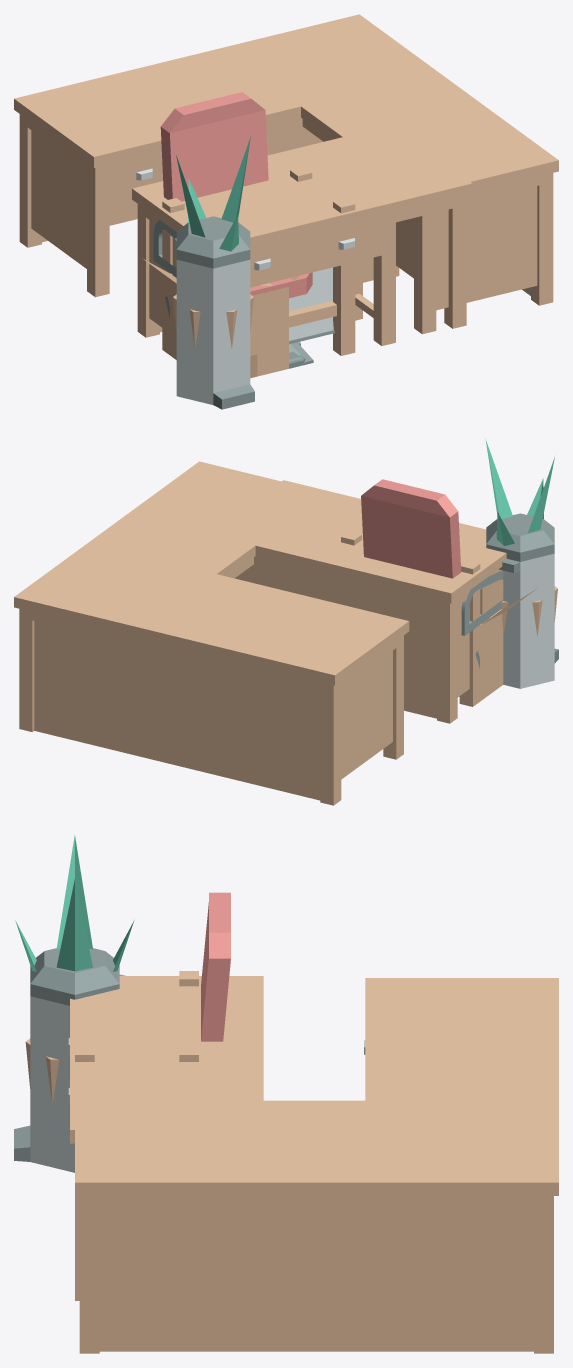
The model's file is office.glb.
The picture shows the model from 3 angles, top to bottom: view 1: azimuth 30°, elevation 25°; view 2: azimuth 150°, elevation 25°; view 3: azimuth 270°, elevation 25°; orthographic projection. The views are drawn at different scales.
Parts seen in each view (by area): view 1: Mesh deskCorner, Mesh desk, trashcan(Clone), chair, Mesh sideTableDrawers, bookcaseOpenLow(Clone), cardboardBoxOpen(Clone), plant, drawer (×2), computerScreen(Clone), drawerRight, Mesh pottedPlant; view 2: Mesh deskCorner, Mesh desk, chair, trashcan(Clone), cardboardBoxOpen(Clone), plant, bookcaseOpenLow(Clone), Mesh sideTableDrawers; view 3: Mesh deskCorner, Mesh desk, trashcan(Clone), chair, plant, bookcaseOpenLow(Clone).
Part boxes in pixels (x1=…): Mesh deskCorner: x1=14, y1=14, x2=558, y2=334; Mesh desk: x1=132, y1=125, x2=472, y2=337; trashcan(Clone): x1=174, y1=216, x2=254, y2=409; chair: x1=153, y1=92, x2=312, y2=298; Mesh sideTableDrawers: x1=172, y1=201, x2=401, y2=345; bookcaseOpenLow(Clone): x1=162, y1=167, x2=355, y2=355; cardboardBoxOpen(Clone): x1=142, y1=258, x2=299, y2=378; plant: x1=176, y1=136, x2=250, y2=251; drawer (×2): x1=109, y1=160, x2=297, y2=276; computerScreen(Clone): x1=289, y1=267, x2=334, y2=361; drawerRight: x1=312, y1=226, x2=381, y2=261; Mesh pottedPlant: x1=173, y1=294, x2=253, y2=348; Mesh deskCorner: x1=14, y1=461, x2=409, y2=805; Mesh desk: x1=209, y1=480, x2=505, y2=723; chair: x1=361, y1=479, x2=503, y2=635; trashcan(Clone): x1=486, y1=513, x2=558, y2=688; cardboardBoxOpen(Clone): x1=459, y1=589, x2=535, y2=701; plant: x1=485, y1=439, x2=554, y2=545; bookcaseOpenLow(Clone): x1=341, y1=531, x2=480, y2=706; Mesh sideTableDrawers: x1=480, y1=553, x2=506, y2=623; Mesh deskCorner: x1=75, y1=978, x2=558, y2=1353; Mesh desk: x1=70, y1=976, x2=263, y2=1300; trashcan(Clone): x1=14, y1=948, x2=125, y2=1172; chair: x1=201, y1=892, x2=230, y2=1041; plant: x1=15, y1=835, x2=134, y2=971; bookcaseOpenLow(Clone): x1=75, y1=971, x2=198, y2=1061.
Bounding box in the file's own units: 1.08 × 0.654 × 1.1.
